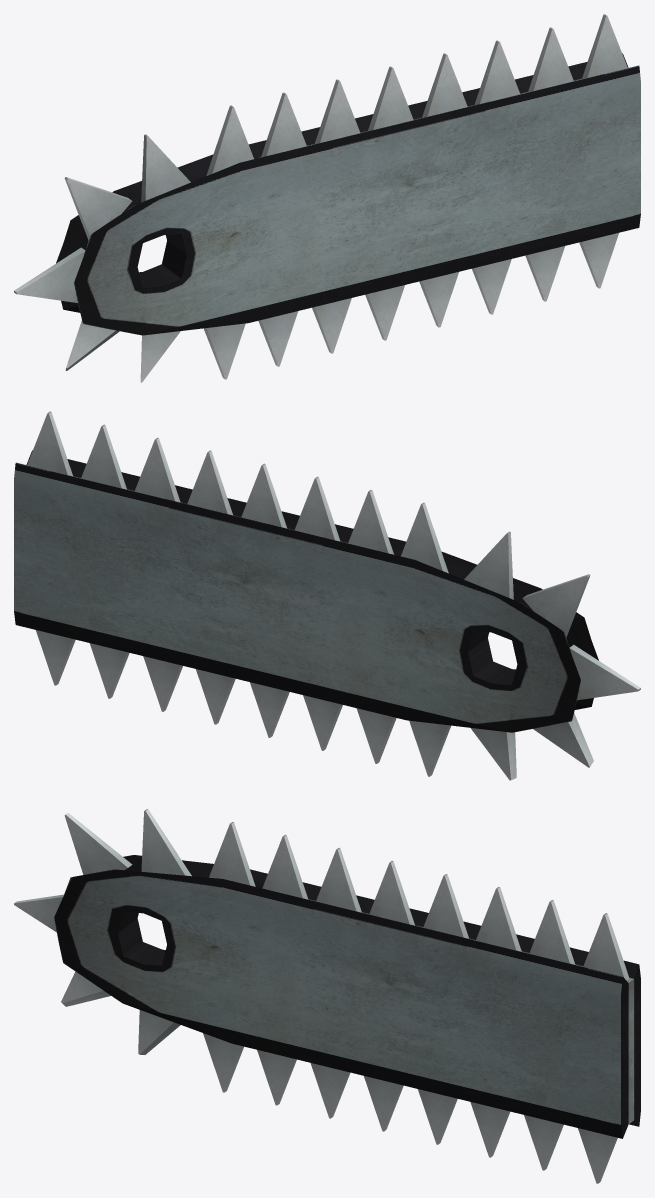
Rendered from saw.fbx.
The picture shows the model from 3 angles, top to bottom: view 1: azimuth 30°, elevation 25°; view 2: azimuth 150°, elevation 25°; view 3: azimuth 330°, elevation 25°; orthographic projection.
Visible parts, largest first — view 1: saw, blade_10, blade_21, blade_9, blade_8, blade_5, blade_1, blade_3, blade_4, blade_6, blade_2, blade_7 (+10 smaller); view 2: saw, blade_10, blade_21, blade_9, blade_8, blade_4, blade_5, blade_1, blade_3, blade_7, blade_6, blade_2 (+10 smaller); view 3: saw, blade_10, blade_9, blade_8, blade_1, blade_2, blade_6, blade_7, blade_3, blade_4, blade_5, blade_15 (+10 smaller).
Part boxes in pixels (<box>): saw: <box>56,53,640,335</box>; blade_10: <box>64,177,132,239</box>; blade_21: <box>14,247,85,302</box>; blade_9: <box>141,134,190,202</box>; blade_8: <box>206,105,253,175</box>; blade_5: <box>367,66,413,131</box>; blade_1: <box>582,14,627,78</box>; blade_3: <box>474,40,520,105</box>; blade_4: <box>422,53,467,118</box>; blade_6: <box>314,79,360,144</box>; blade_2: <box>528,27,573,92</box>; blade_7: <box>261,92,306,157</box>; saw: <box>14,450,598,732</box>; blade_10: <box>522,574,590,637</box>; blade_21: <box>569,644,640,700</box>; blade_9: <box>464,531,513,599</box>; blade_8: <box>401,502,448,573</box>; blade_4: <box>187,450,233,515</box>; blade_5: <box>241,463,287,528</box>; blade_1: <box>27,411,72,476</box>; blade_3: <box>134,437,180,502</box>; blade_7: <box>348,490,393,554</box>; blade_6: <box>294,476,340,541</box>; blade_2: <box>81,424,126,489</box>; saw: <box>54,855,640,1138</box>; blade_10: <box>64,813,132,874</box>; blade_9: <box>141,809,191,876</box>; blade_8: <box>209,822,255,886</box>; blade_1: <box>583,913,629,980</box>; blade_2: <box>529,900,575,964</box>; blade_6: <box>316,848,361,912</box>; blade_7: <box>262,834,308,899</box>; blade_3: <box>476,886,521,951</box>; blade_4: <box>423,874,469,938</box>; blade_5: <box>369,860,414,925</box>; blade_15: <box>203,1033,243,1092</box>.
Size of the model in its own units: 23.11 by 9.69 by 1.29.
1 material, 1 textured.
